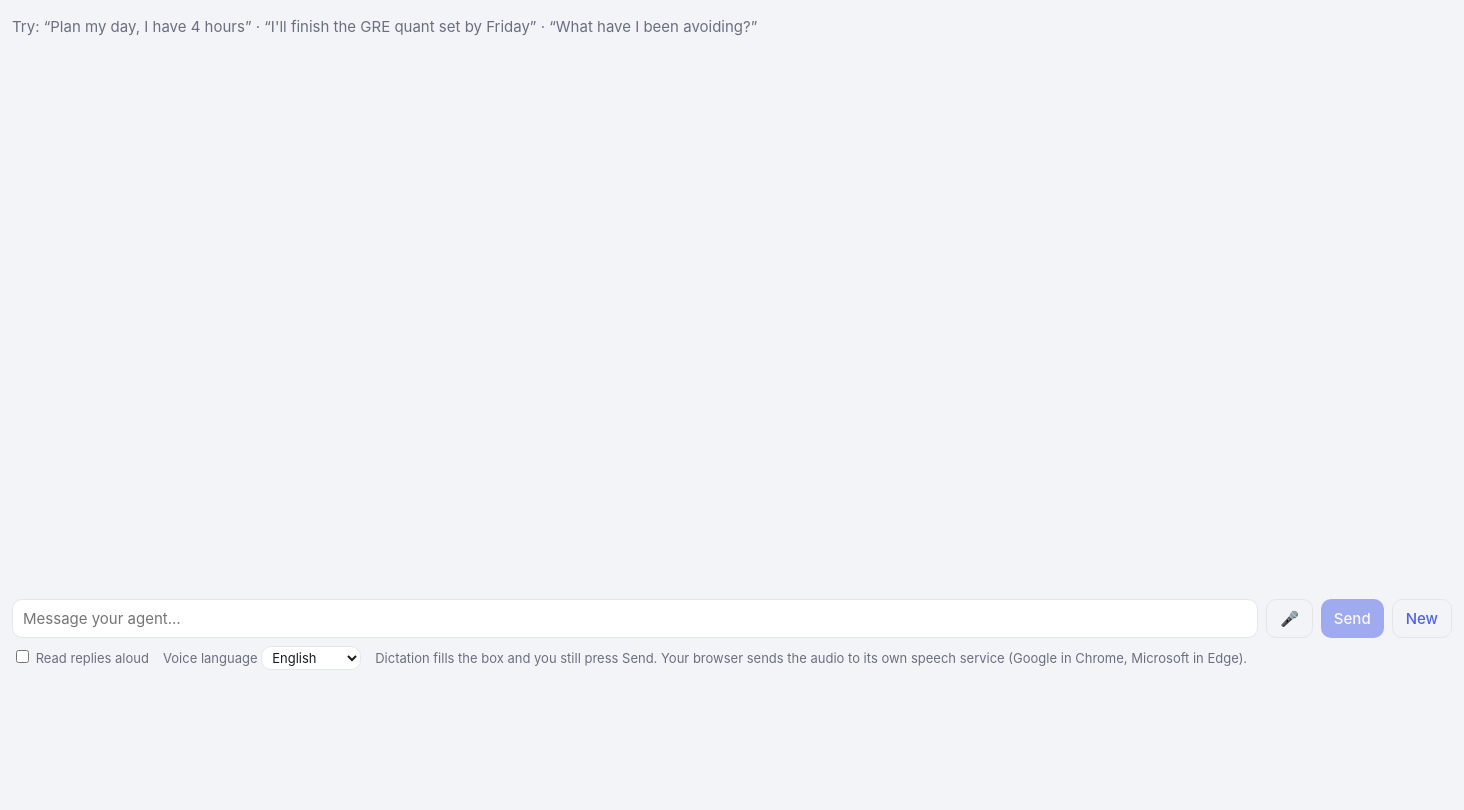
Test: voice › uses the chosen language and explains a blocked microphone
Select "اردو (Urdu)" in the dropdown labelled "Voice language". click: x=311, y=658
box: [261,646,361,670]
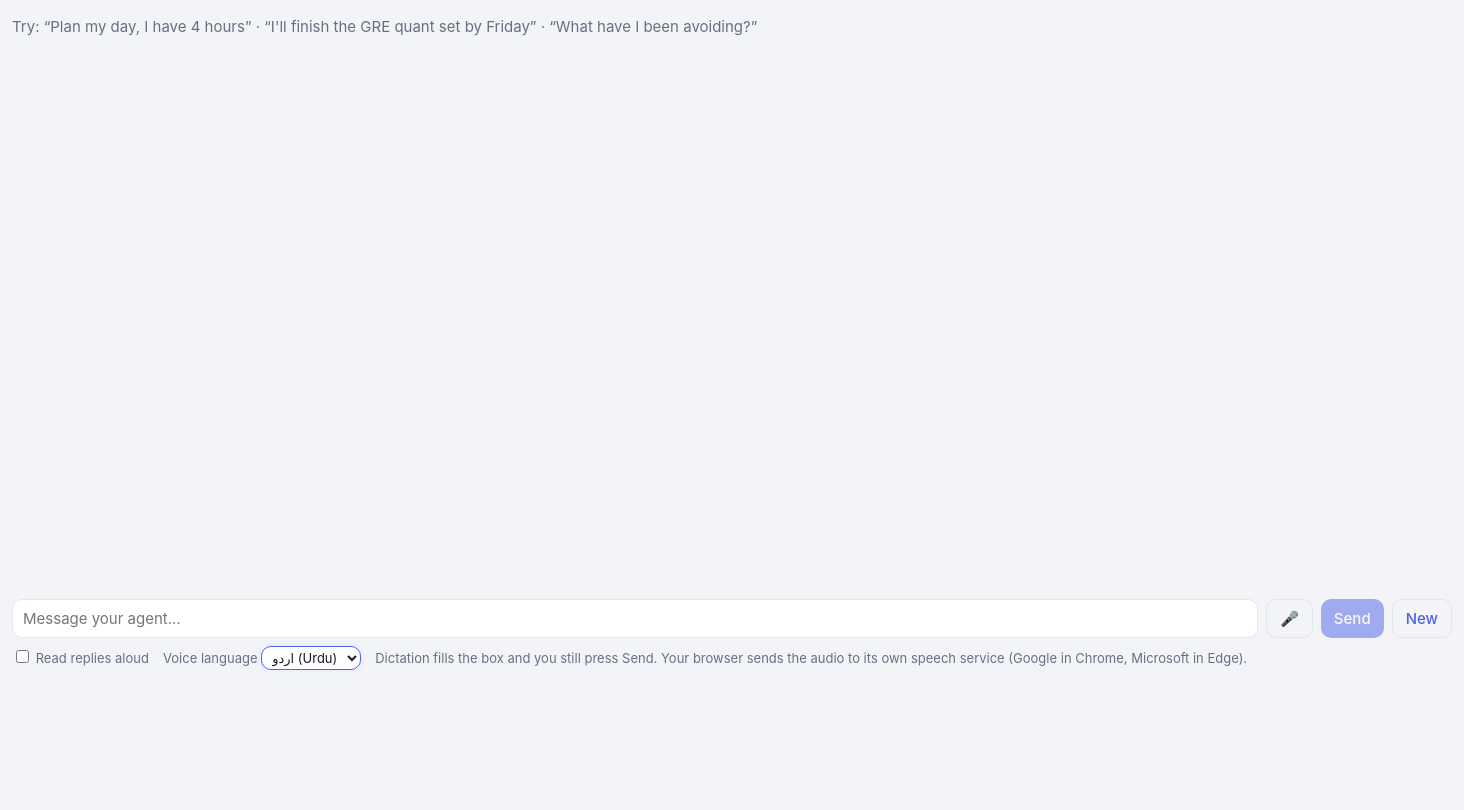
Click the button named "Start dictation". click: x=1289, y=618
box: [1266,599,1313,638]
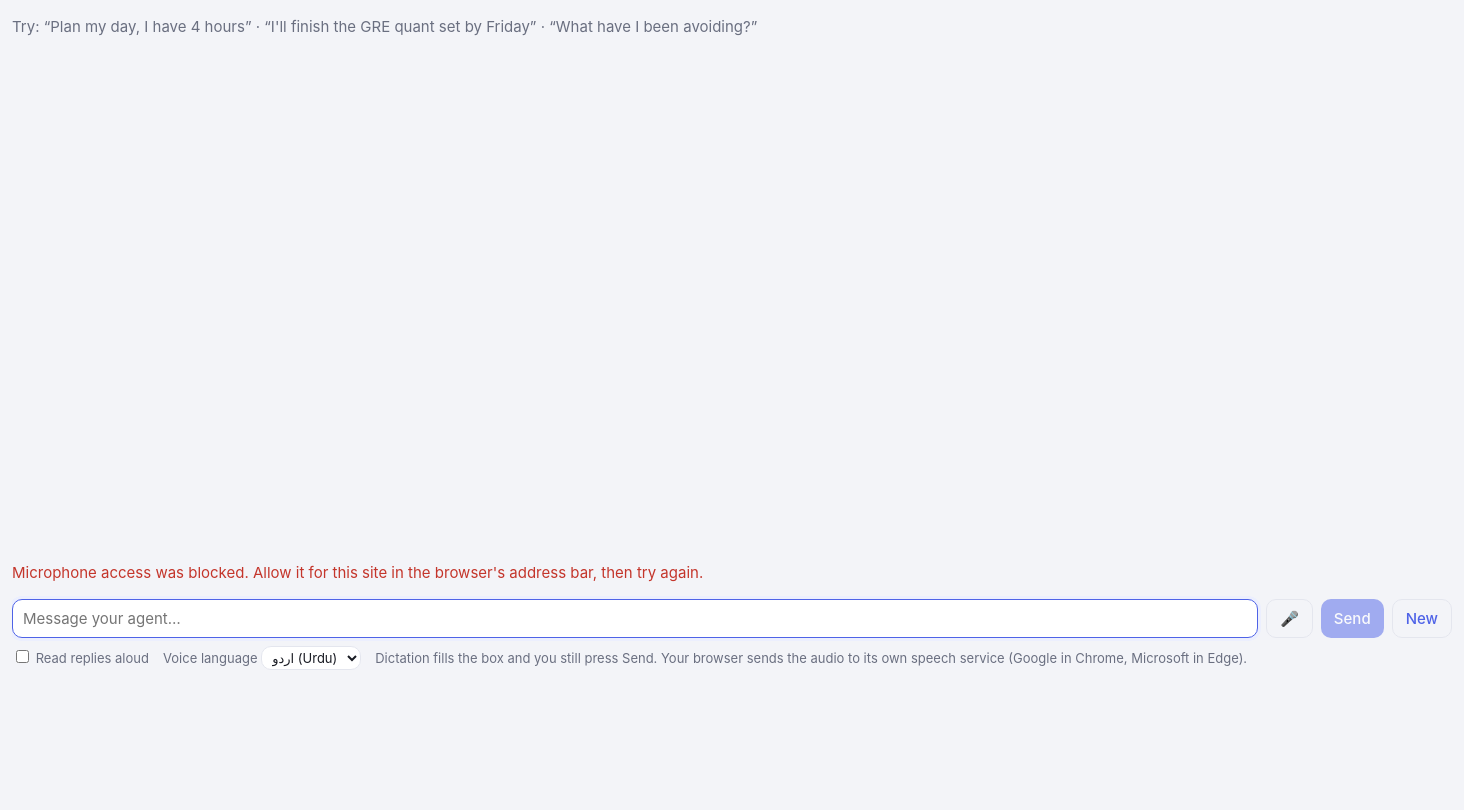
Result: the message shows "Microphone access was blocked" at [12,562,703,582]
